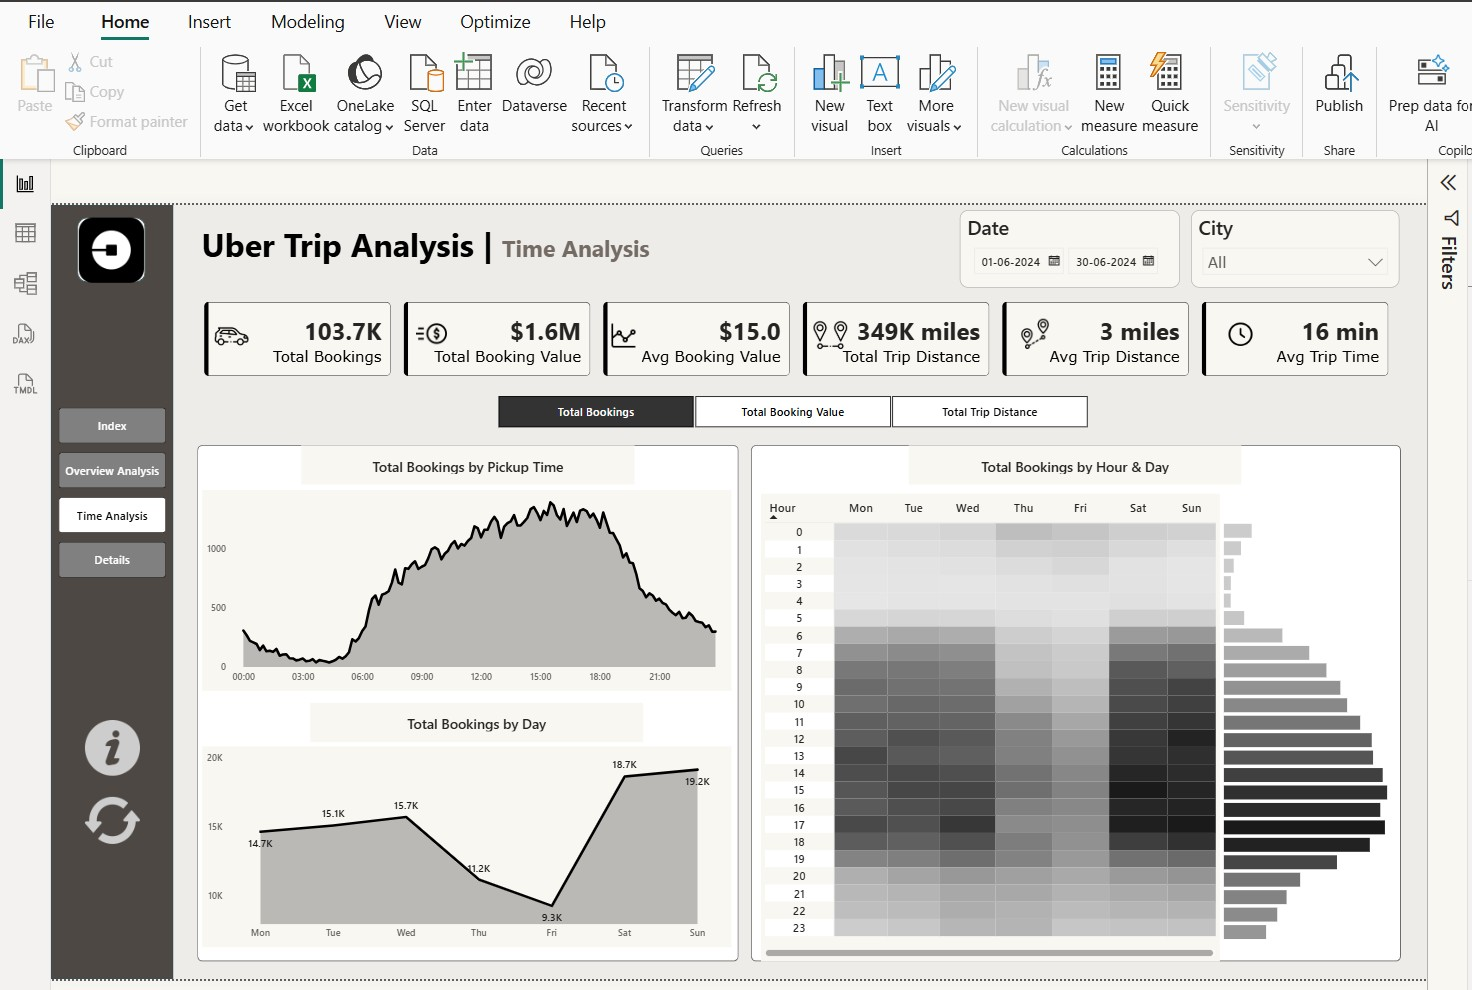

This screenshot's page, from the dashboard's own definition file:
{"tool":"powerbi","page":{"name":"Time Analysis","canvas":[1600,900],"ordinal":2},"visuals":[{"type":"shape","box":[0,0,142,900],"z":0},{"type":"textbox","box":[170,16,710,80],"z":1000},{"type":"shape","box":[169.8,279.5,629.5,600.5],"z":2000},{"type":"slicer","fields":{"Values":["Dynamic Measure.Dynamic Measure"]},"box":[494.9,215.3,735.1,50],"z":3000},{"type":"areaChart","fields":{"Y":["Key Measures.Total Bookings"],"Category":["Trip Details.Pickup Hour (HH MM SS) (bins)"]},"box":[176,331.3,615,234],"z":4000},{"type":"cardVisual","fields":{"Data":["Key Measures.Title for by Pickup Time"]},"box":[285.7,275.4,397.6,55.9],"z":5000},{"type":"areaChart","fields":{"Y":["Key Measures.Total Bookings"],"Category":["Calendar Table.Day Name"]},"box":[176,629.5,615,234],"z":6000},{"type":"cardVisual","fields":{"Data":["Key Measures.Title for by Day Num"]},"box":[296.1,573.6,397.6,55.9],"z":7000},{"type":"shape","box":[813.7,279.5,755.8,600.5],"z":8000},{"type":"pivotTable","fields":{"Values":["Key Measures.Total Bookings"],"Rows":["Trip Details.Pickup Hour"],"Columns":["Calendar Table.Day Name"]},"box":[825.6,335.8,533.4,543.6],"z":9000},{"type":"barChart","fields":{"Y":["Key Measures.Total Bookings"],"Category":["Trip Details.Pickup Hour"]},"box":[1359,357.6,202,521.8],"z":10000},{"type":"cardVisual","fields":{"Data":["Key Measures.Title for by Hour & Day"]},"box":[992.7,274.7,396.8,55.2],"z":11000},{"type":"shape","box":[30.8,14.6,79.2,75.4],"z":12000},{"type":"image","box":[29.3,14.3,82.1,75.7],"z":13000},{"type":"pageNavigator","box":[8.3,235.8,125.2,200.3],"z":14000},{"type":"image","box":[12.5,599,116.9,64.7],"z":16000},{"type":"image","box":[12.5,682.4,116.9,64.7],"z":17000},{"type":"cardVisual","fields":{"Data":["Key Measures.Total Bookings","Key Measures.Total Booking Value","Key Measures.Avg Booking Amount","Key Measures.Total Trip Distance","Key Measures.Avg Trip Distance","Key Measures.Avg Trip Time"]},"box":[161.3,95.9,1415.7,120.6],"z":18000},{"type":"image","box":[424.4,123.5,36.3,52.3],"z":19000},{"type":"image","box":[886.6,122.1,39.2,58.1],"z":20000},{"type":"image","box":[1100.3,132.3,90.1,34.9],"z":21000},{"type":"image","box":[1369.2,127.9,27.6,45.1],"z":22000},{"type":"image","box":[649.7,129.4,32,45.1],"z":23000},{"type":"image","box":[190.4,123.5,39.2,58.1],"z":24000},{"type":"slicer","title":"Date","fields":{"Values":["Calendar Table.Date"]},"box":[1056.7,5.8,255.8,90.1],"z":25000},{"type":"slicer","title":"City","fields":{"Values":["Location Table.City"]},"box":[1325.6,5.8,242.7,90.1],"z":26000}]}

Visuals, with their boxes on the page's 1600x900 design canvas (x1, y1, x2, y2). These are canvas units, not pixel positions in the 1472x990 screenshot, which may show the page scaled, cropped or inside an application window:
shape: locate(0, 0, 142, 900)
textbox: locate(170, 16, 880, 96)
shape: locate(170, 280, 799, 880)
slicer - Dynamic Measure.Dynamic Measure: locate(495, 215, 1230, 265)
areaChart - Key Measures.Total Bookings x Trip Details.Pickup Hour (HH MM SS) (bins): locate(176, 331, 791, 565)
cardVisual - Key Measures.Title for by Pickup Time: locate(286, 275, 683, 331)
areaChart - Key Measures.Total Bookings x Calendar Table.Day Name: locate(176, 630, 791, 864)
cardVisual - Key Measures.Title for by Day Num: locate(296, 574, 694, 630)
shape: locate(814, 280, 1570, 880)
pivotTable - Key Measures.Total Bookings x Trip Details.Pickup Hour: locate(826, 336, 1359, 879)
barChart - Key Measures.Total Bookings x Trip Details.Pickup Hour: locate(1359, 358, 1561, 879)
cardVisual - Key Measures.Title for by Hour & Day: locate(993, 275, 1390, 330)
shape: locate(31, 15, 110, 90)
image: locate(29, 14, 111, 90)
pageNavigator: locate(8, 236, 134, 436)
image: locate(12, 599, 129, 664)
image: locate(12, 682, 129, 747)
cardVisual - Key Measures.Total Bookings x Key Measures.Total Booking Value: locate(161, 96, 1577, 216)
image: locate(424, 124, 461, 176)
image: locate(887, 122, 926, 180)
image: locate(1100, 132, 1190, 167)
image: locate(1369, 128, 1397, 173)
image: locate(650, 129, 682, 174)
image: locate(190, 124, 230, 182)
"Date" slicer: locate(1057, 6, 1312, 96)
"City" slicer: locate(1326, 6, 1568, 96)
